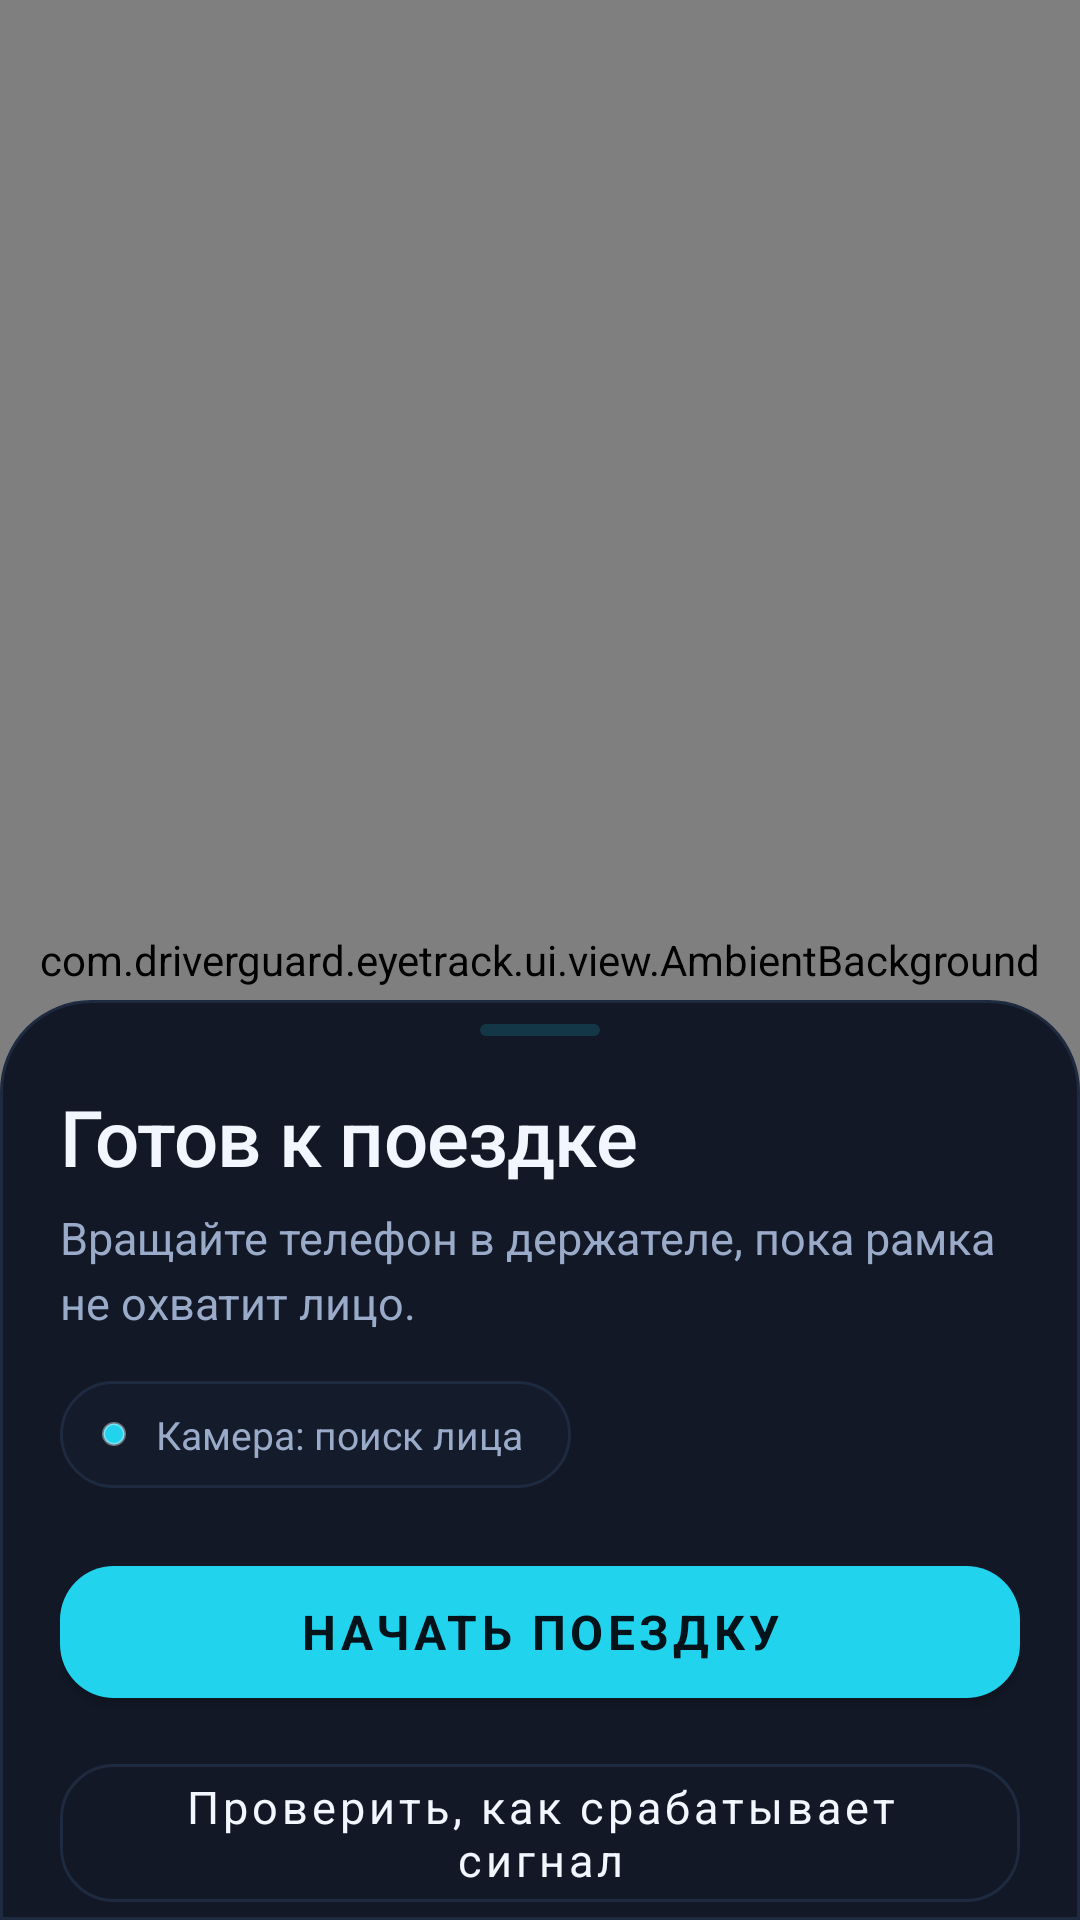

Named icons in this screenshot (1080 × 1920) and their bounding boxes, detection(x1, y1, x2, y2):
dot: detection(102, 1422, 126, 1446)
